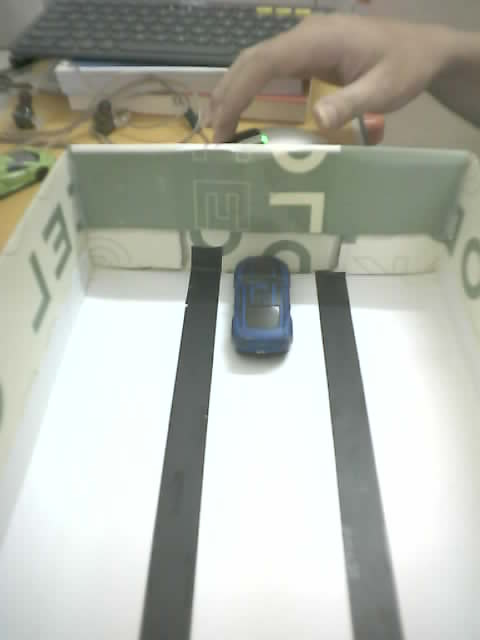vehicle: (222, 250, 304, 374)
